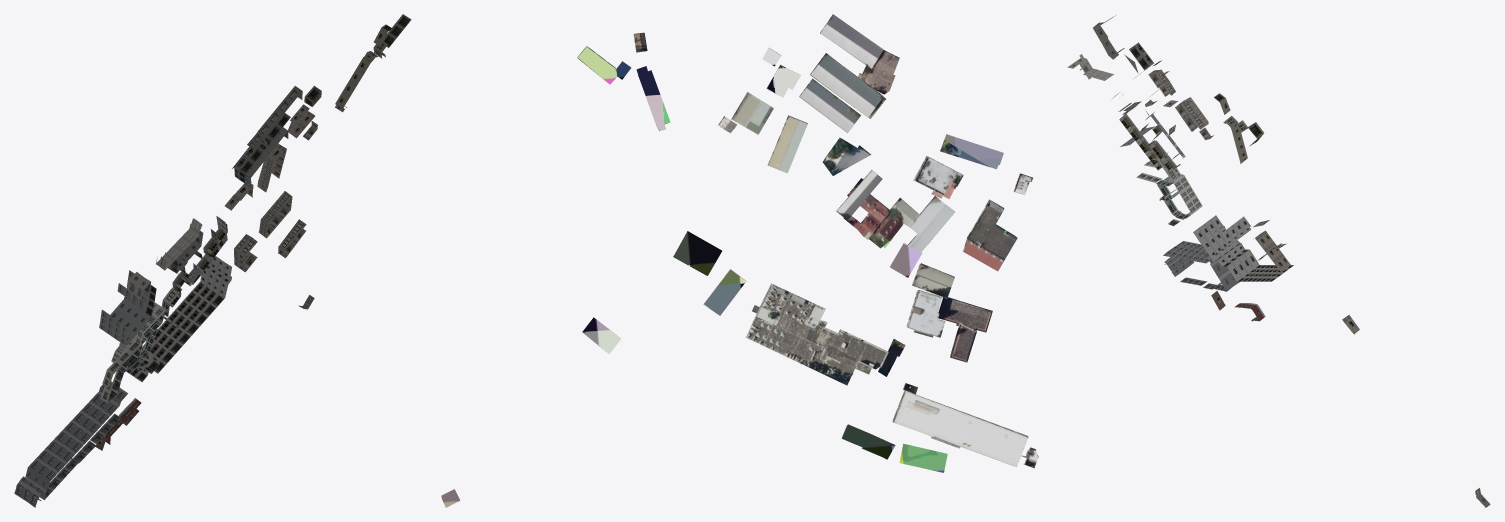
File: tile_LOD8_r6_c3.glb
3 renders of one model, left to right at view 1: azimuth 30°, elevation 25°; view 2: azimuth 150°, elevation 25°; view 3: azimuth 270°, elevation 25°, orthographic. The views are drawn at different scales.
Bounding box in the file's own units: 209 × 181 × 175.
Materials: 95 (95 with a texture image).
